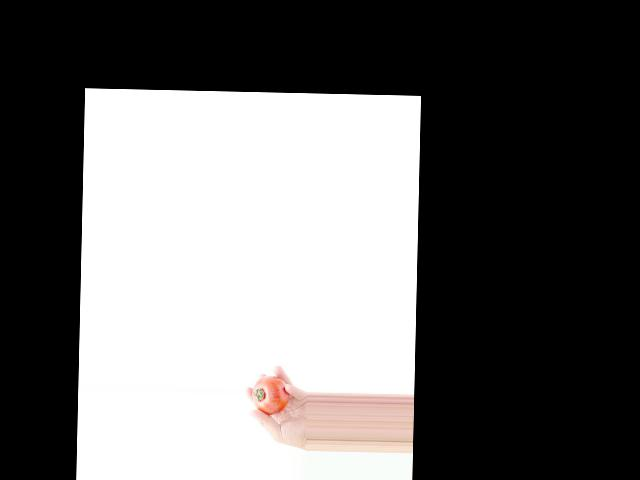tomato: (252, 375, 289, 414)
